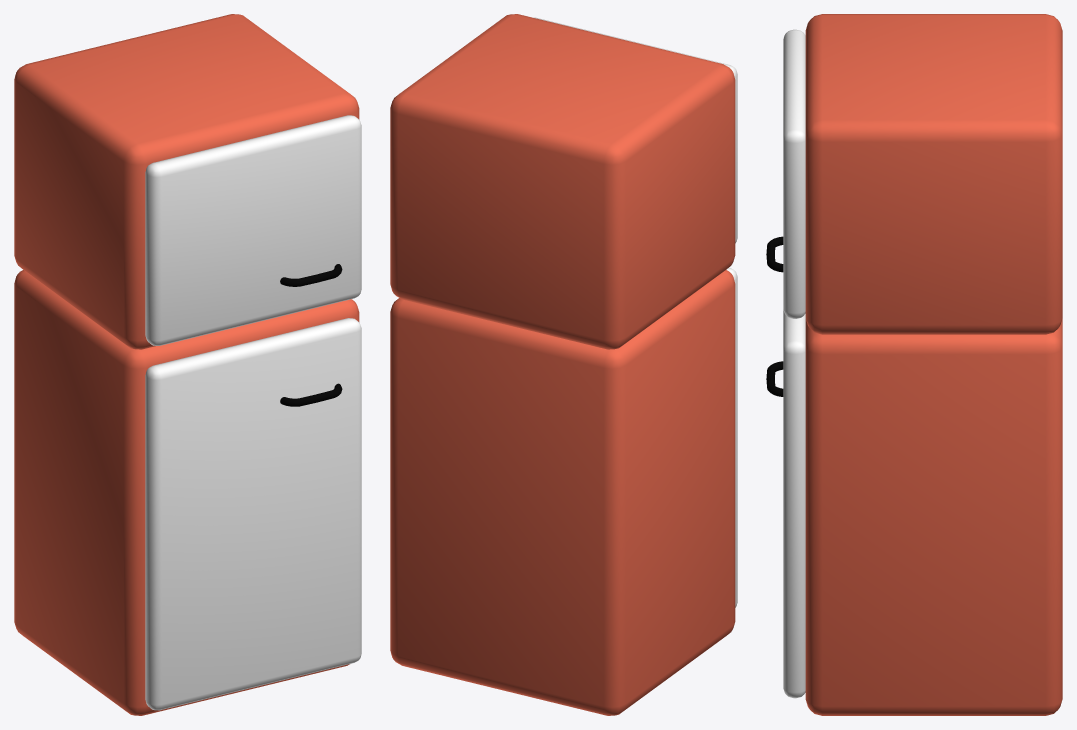
Rendered from refrigerator.obj.
3 renders of one model, left to right at view 1: azimuth 30°, elevation 25°; view 2: azimuth 150°, elevation 25°; view 3: azimuth 270°, elevation 25°, orthographic. The views are drawn at different scales.
Visible parts, largest first — view 1: bottom_door.001, top.001, bottom.003, top_door.001; view 2: bottom.003, top.001, bottom_door.001, top_door.001; view 3: bottom.003, top.001, bottom_door.001, top_door.001.
Part boxes in pixels (bbox=[...]): bottom_door.001: bbox=[145, 318, 361, 710]; top.001: bbox=[14, 14, 359, 349]; bottom.003: bbox=[14, 270, 359, 715]; top_door.001: bbox=[145, 115, 361, 345]; bottom.003: bbox=[390, 270, 735, 715]; top.001: bbox=[390, 14, 735, 349]; bottom_door.001: bbox=[726, 267, 737, 607]; top_door.001: bbox=[533, 17, 737, 243]; bottom.003: bbox=[805, 318, 1062, 715]; top.001: bbox=[805, 14, 1062, 334]; bottom_door.001: bbox=[766, 310, 805, 698]; top_door.001: bbox=[766, 29, 805, 318].
Bounding box in the file's own units: 0.5913 × 1.38 × 0.6243.
